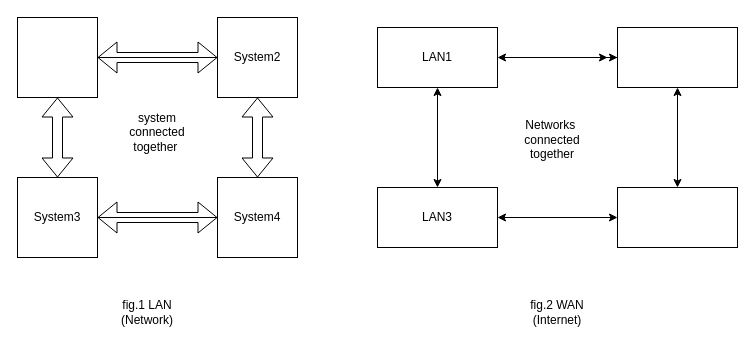
Image size: 755x345. Some labels were removed from this diagram. The shapes that lost their labels are listed below. From the top down, each one's centre as x and y in pixels, then its label:
the point at 57,57: System1
the point at 677,57: LAN2
